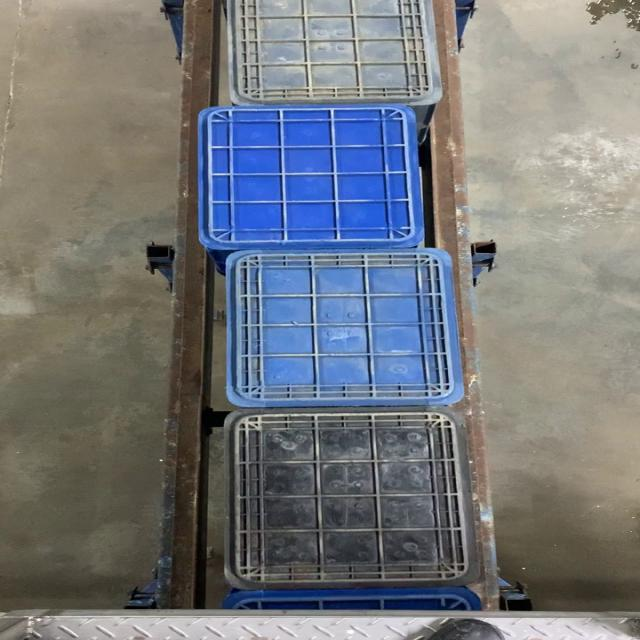Box: (224, 407, 475, 589), (224, 250, 466, 404), (196, 104, 432, 248)
